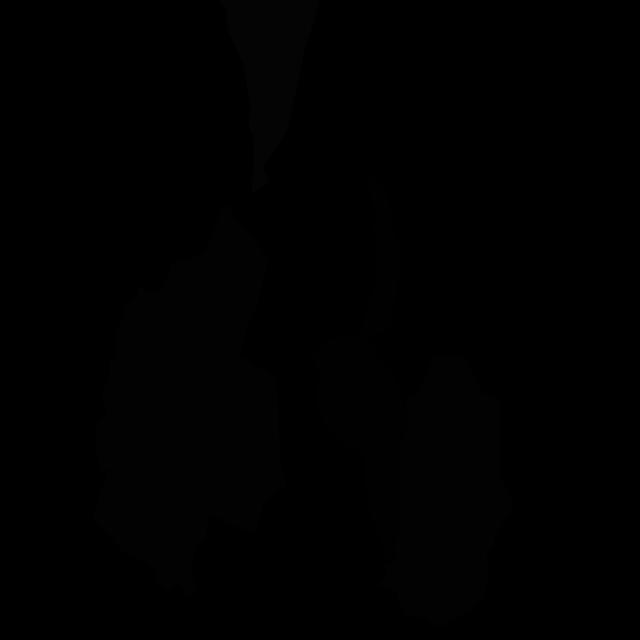cardboard: (92, 204, 269, 596), (378, 355, 514, 627), (196, 355, 286, 547), (95, 285, 165, 471), (155, 570, 174, 592)
rigid_plastic: (313, 169, 406, 564)
soft_plastic: (218, 0, 320, 194)
